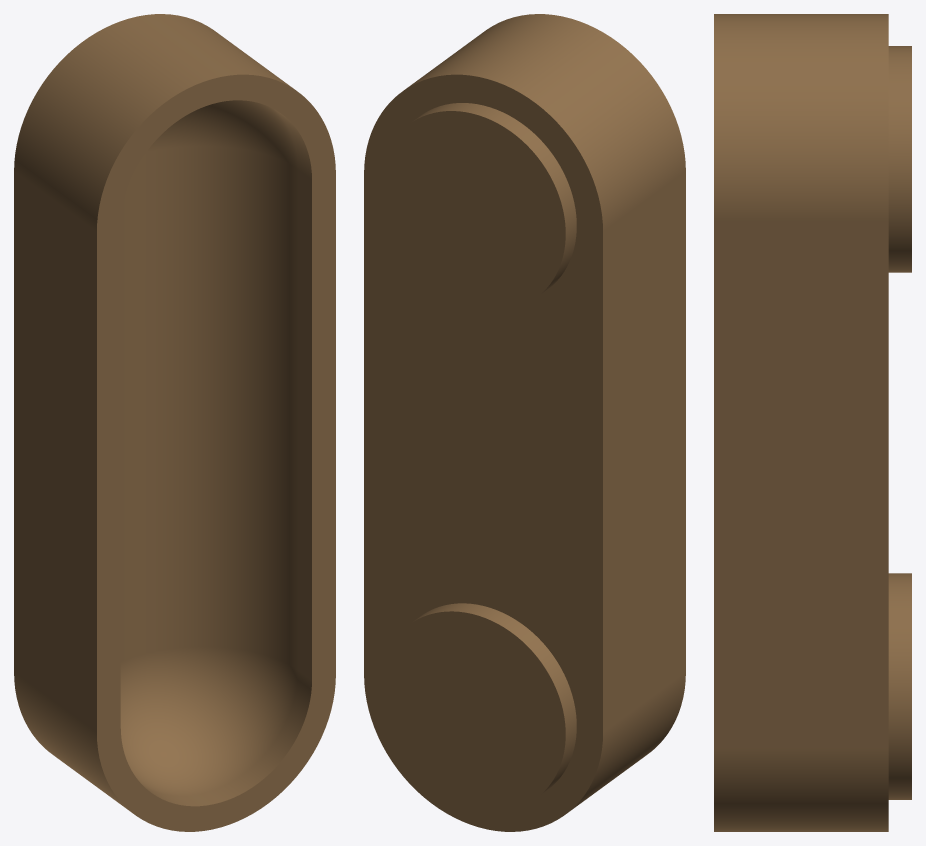
The picture shows the model from 3 angles, left to right: view 1: azimuth 30°, elevation 25°; view 2: azimuth 150°, elevation 25°; view 3: azimuth 270°, elevation 25°; orthographic projection. The views are drawn at different scales.
Parts seen in each view (by area): view 1: box; view 2: box; view 3: box.
Part boxes in pixels (<box>): box: <box>14,14,335,831</box>; box: <box>364,14,685,831</box>; box: <box>714,14,911,831</box>.
Size of the model in its own units: 0.05 by 0.15 by 0.034.
